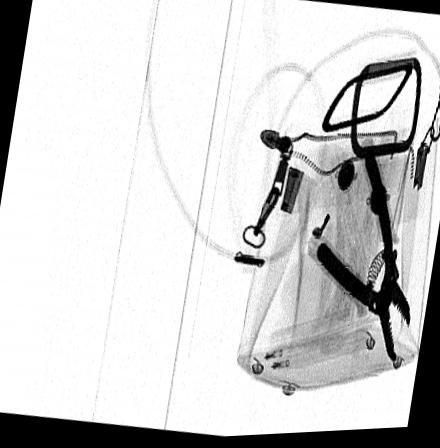Pliers: (315, 152, 411, 367)
